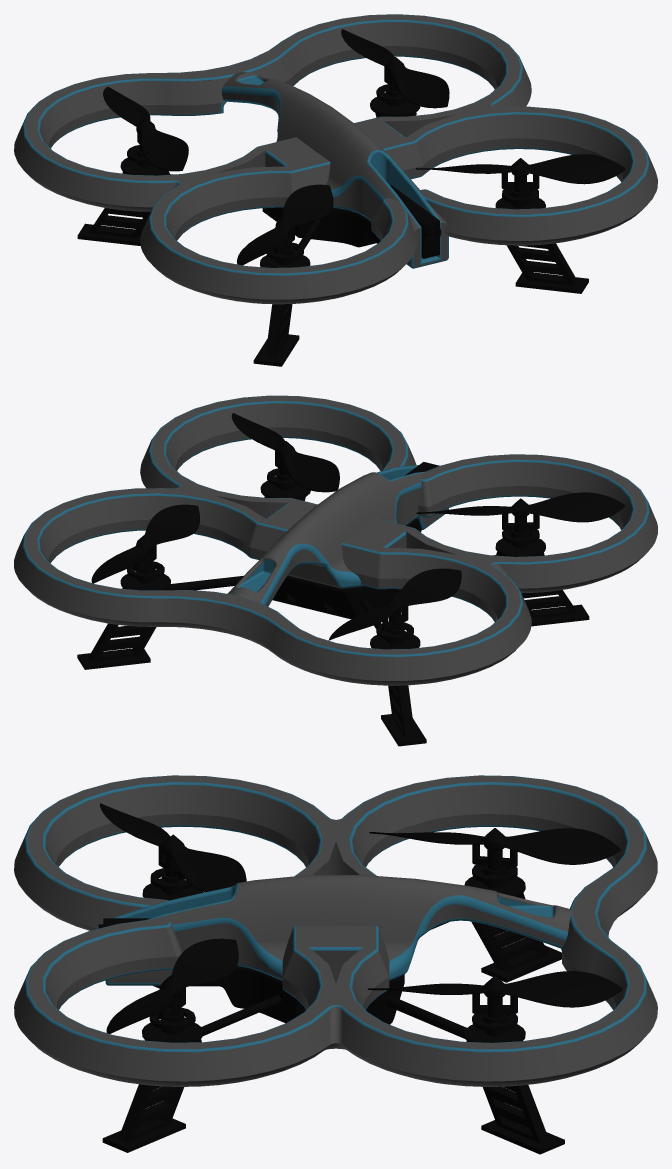
File: quadcopter-oriented.glb
The picture shows the model from 3 angles, top to bottom: view 1: azimuth 30°, elevation 25°; view 2: azimuth 150°, elevation 25°; view 3: azimuth 270°, elevation 25°; orthographic projection. The views are drawn at different scales.
Parts seen in each view (by area): view 1: currentmodel.wrl.cleaner.materialmerger.gles; view 2: currentmodel.wrl.cleaner.materialmerger.gles; view 3: currentmodel.wrl.cleaner.materialmerger.gles.
Part boxes in pixels (x1,y1,x2,y2): currentmodel.wrl.cleaner.materialmerger.gles: (14, 14, 657, 366); currentmodel.wrl.cleaner.materialmerger.gles: (14, 395, 657, 746); currentmodel.wrl.cleaner.materialmerger.gles: (14, 775, 657, 1154).
Size of the model in its own units: 2.2 by 0.6382 by 2.1.
